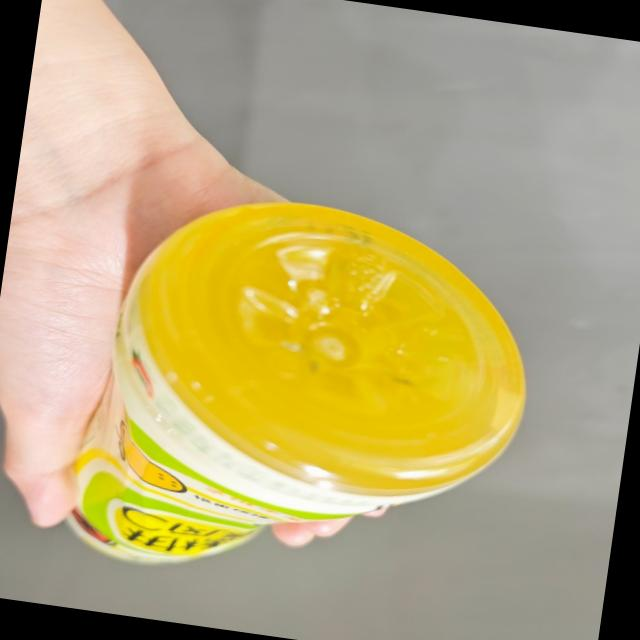bottle: (56, 170, 556, 616)
